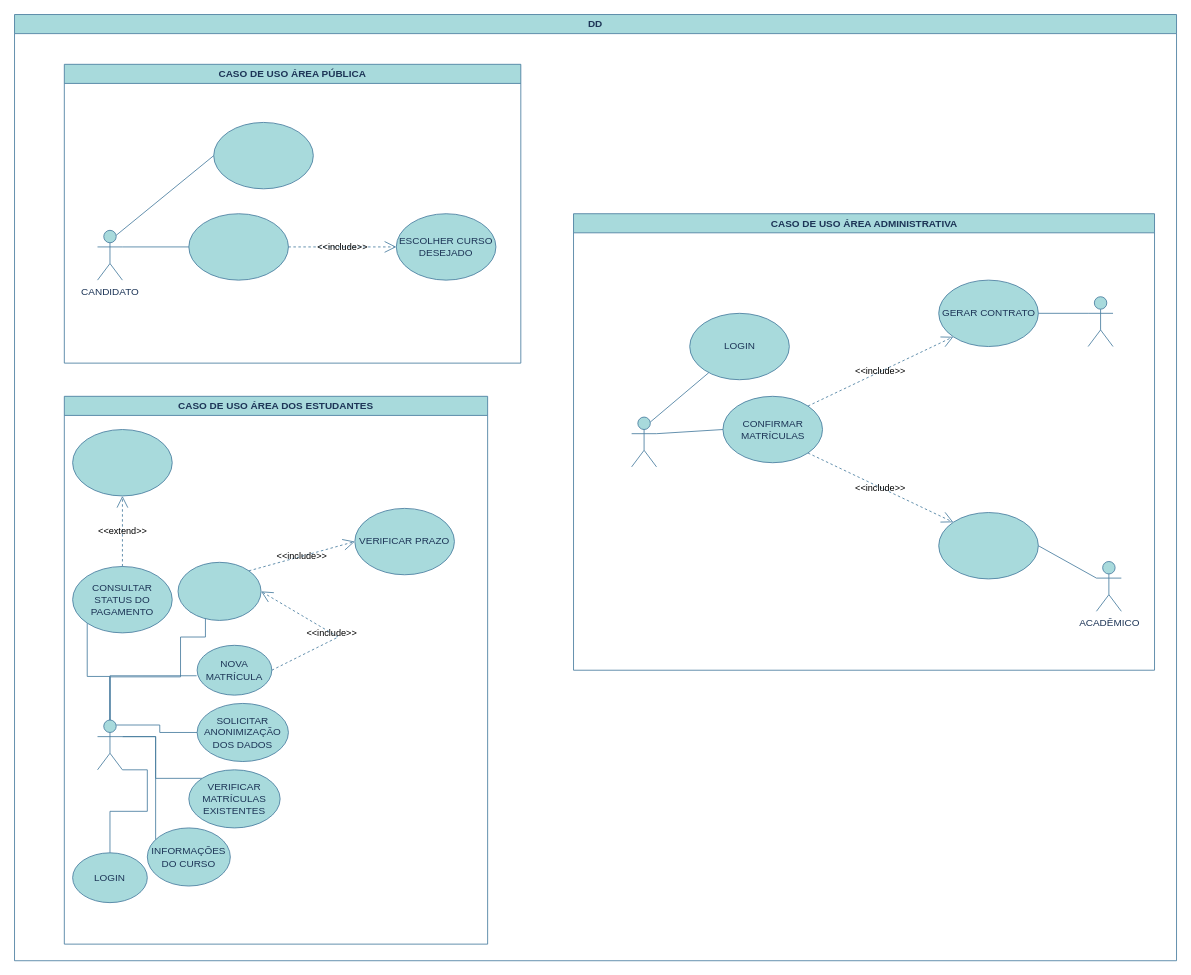
Some shapes in this 1191 by 975 pixel diagram are drawn without their labels. The shapes that lost their labels are listed below. From the top down, each one's centre as x and y in pixels, then its label:
the point at 263,155: EFETUAR CADASTRO BÁSICO
the point at 238,246: EFETUAR PRÉ-MATRÍCULA
the point at 1100,321: FINANCEIRO
the point at 644,441: ADMINISTRADOR
the point at 122,462: SOLICITAR REEMBOLSO
the point at 988,545: GERAR SALA DE AULA
the point at 219,590: REALIZAR PAGAMENTO
the point at 109,744: ESTUDANTE
